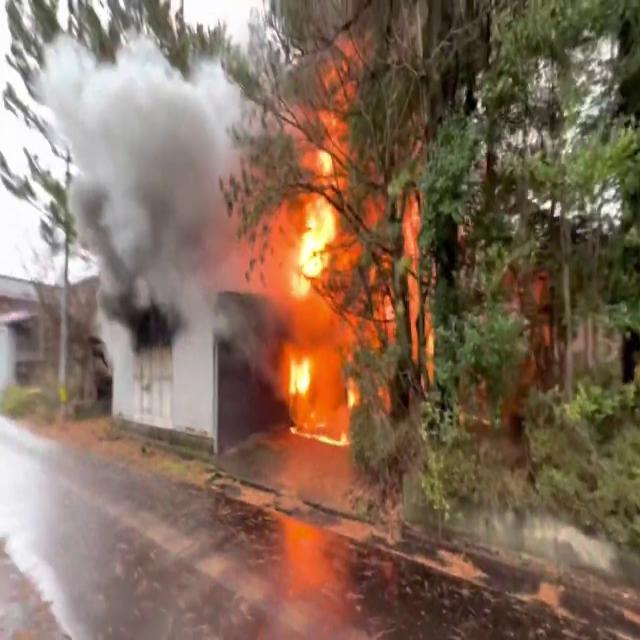Fire: (256, 40, 366, 432)
Smoke: (46, 17, 286, 350)
